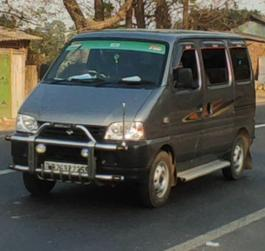Auto: (7, 27, 258, 209)
